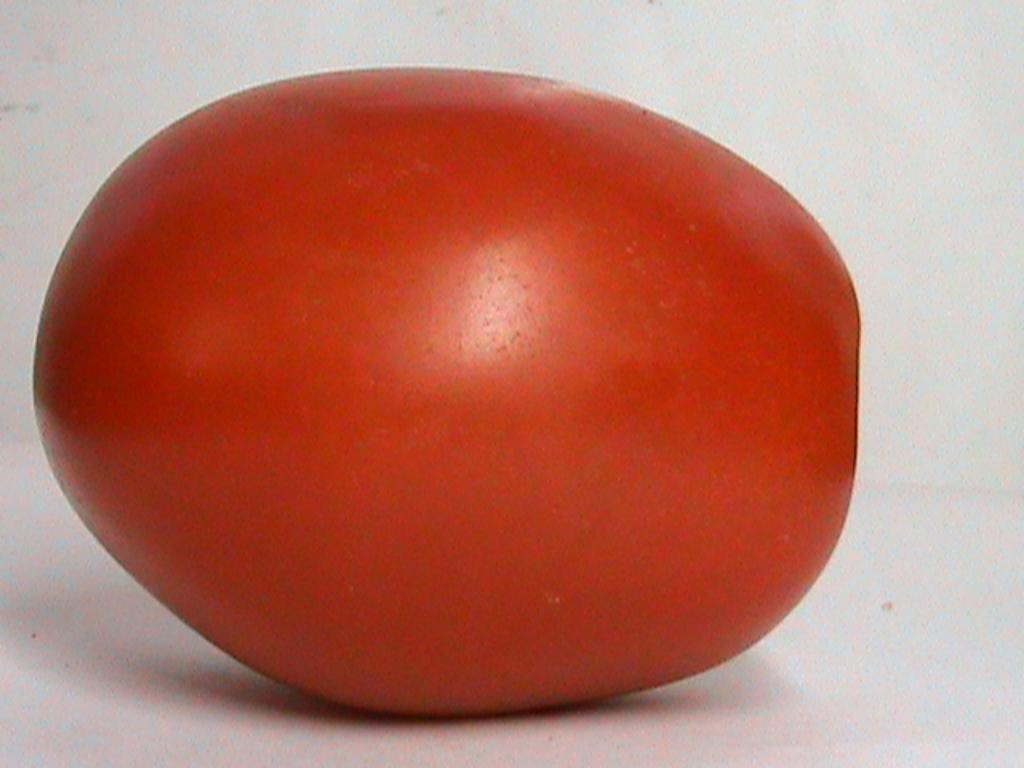tomato: (34, 70, 856, 712)
